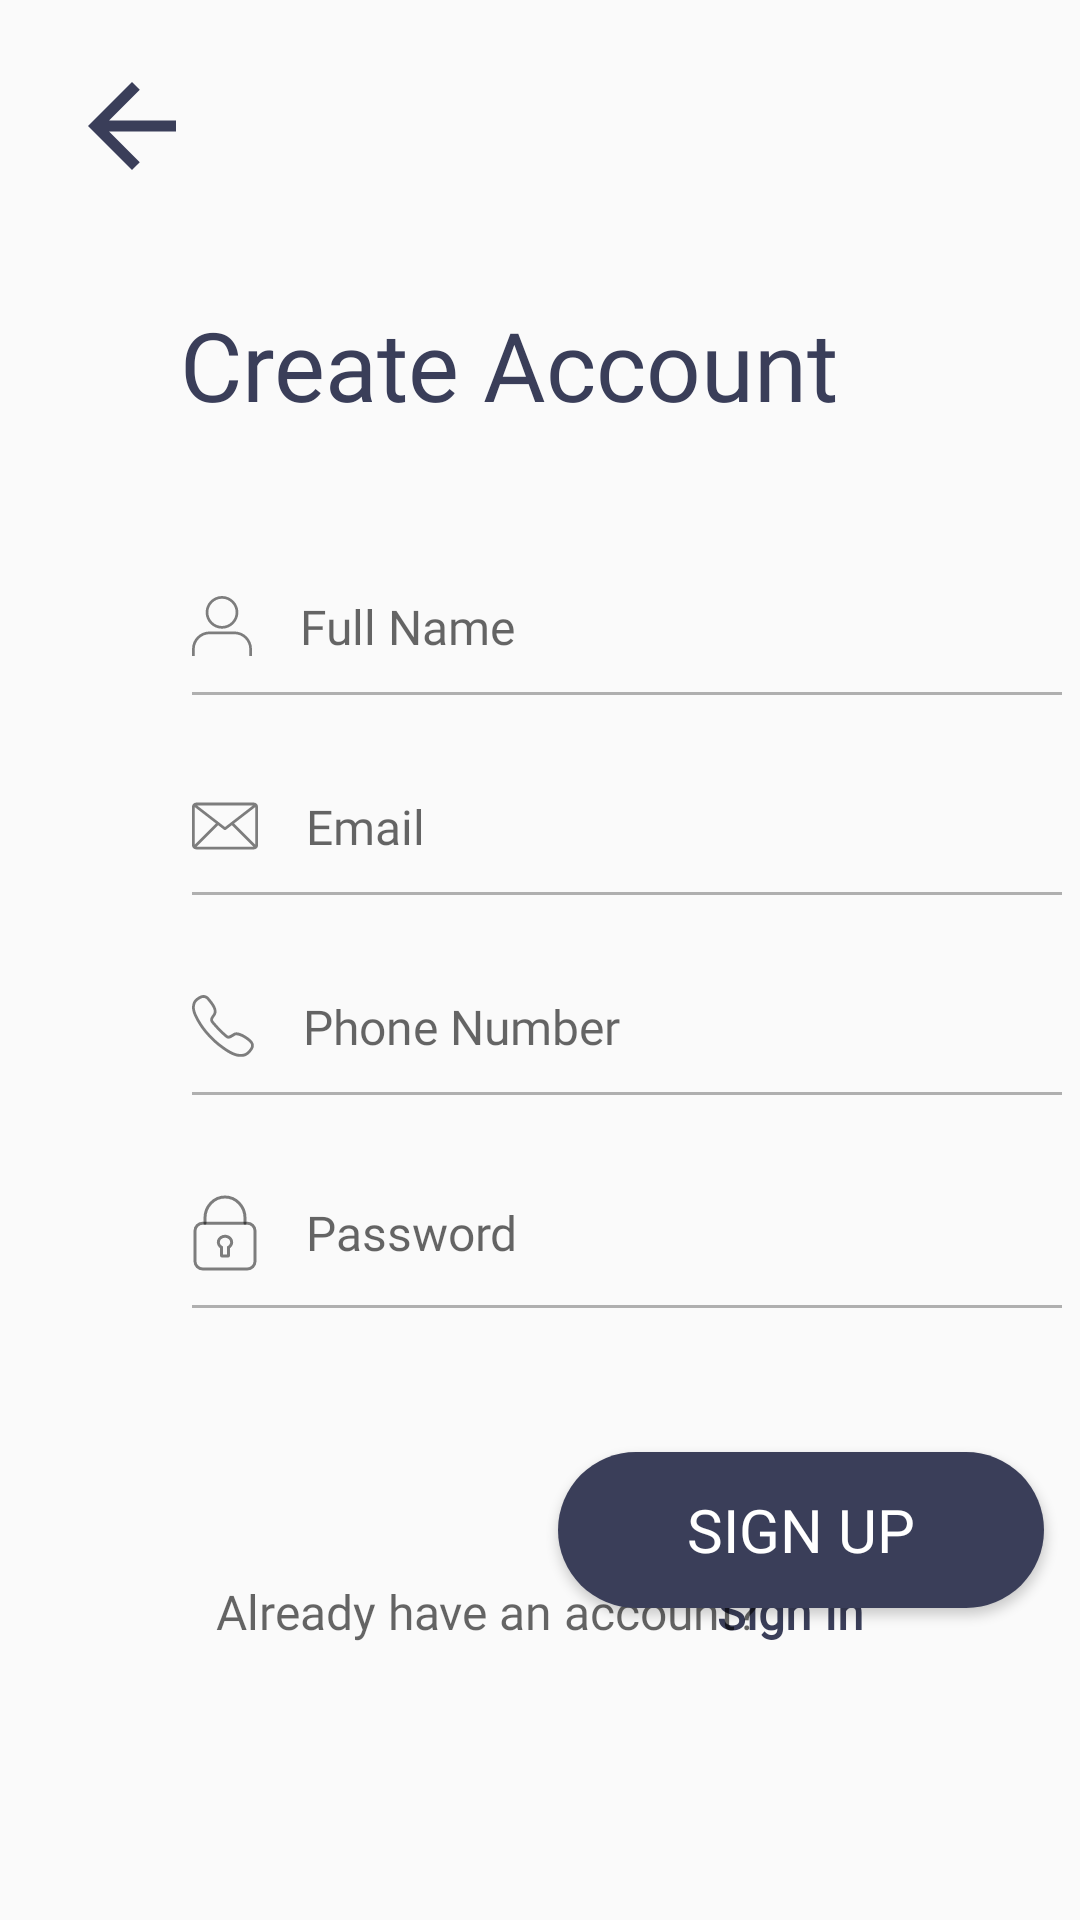

Where icons sit on this 1080px x 1920px app screen, as (x1, y1, x2, y2):
arrow back: (88, 82, 176, 170)
